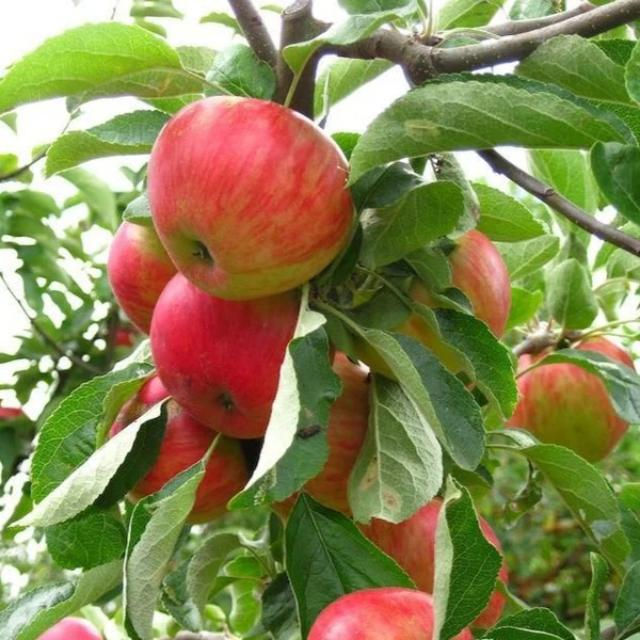Apple: (149, 96, 354, 299), (150, 272, 299, 438), (305, 350, 380, 514), (511, 362, 628, 461), (109, 221, 178, 333), (308, 588, 432, 640), (450, 230, 510, 334)
